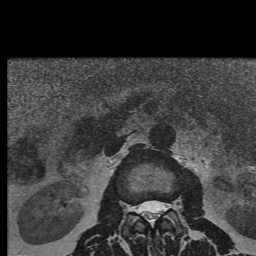CCS_normal: (145, 191, 155, 233)
LFS_stenosis: (164, 189, 173, 219)
LLS_normal: (155, 191, 164, 225)
RFS_stenosis: (127, 192, 137, 221)
RLS_normal: (137, 192, 145, 225)
